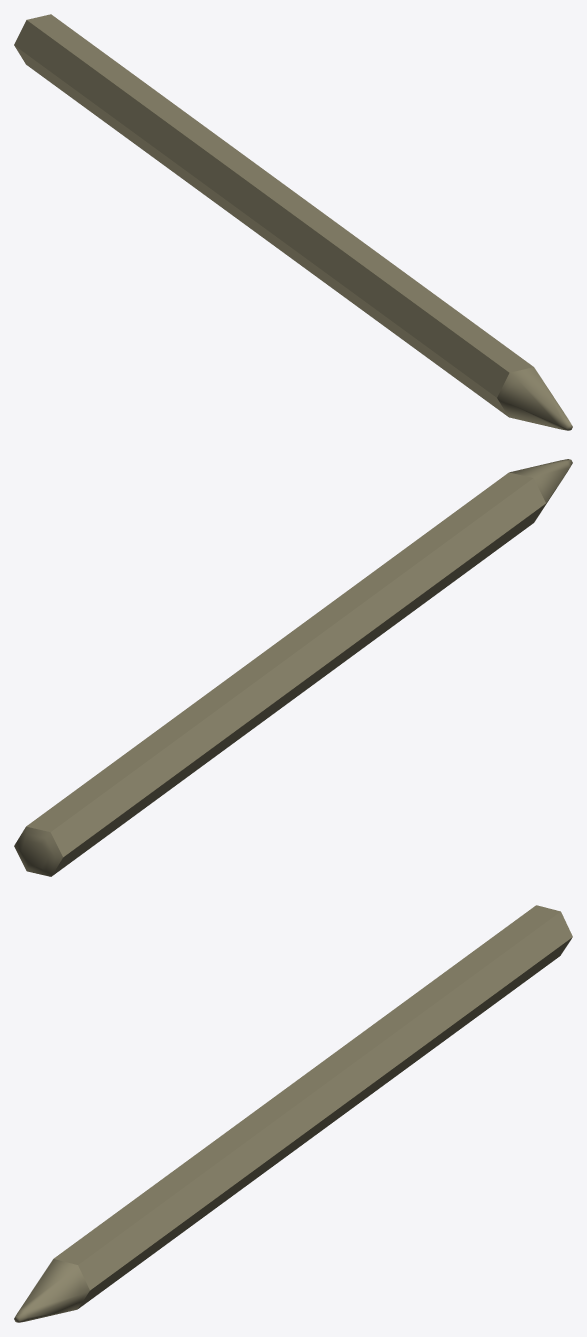
Rendered from Pencil.fbx.
3 views of the same model, one above another, from view 1: azimuth 30°, elevation 25°; view 2: azimuth 150°, elevation 25°; view 3: azimuth 330°, elevation 25° (orthographic).
Visible parts, largest first — view 1: Pencil_starnick001; view 2: Pencil_starnick001; view 3: Pencil_starnick001.
Boxes of the visible parts, x1=… form: Pencil_starnick001: x1=14, y1=14, x2=572, y2=430; Pencil_starnick001: x1=14, y1=459, x2=572, y2=876; Pencil_starnick001: x1=14, y1=905, x2=572, y2=1322.
Size of the model in its own units: 10.09 by 188 by 8.77.
